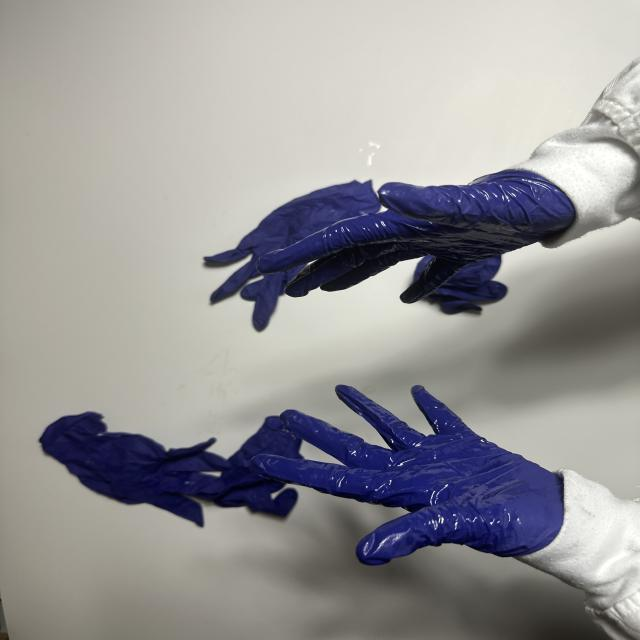gloves_contaminated: (252, 386, 563, 564), (259, 170, 575, 302)
